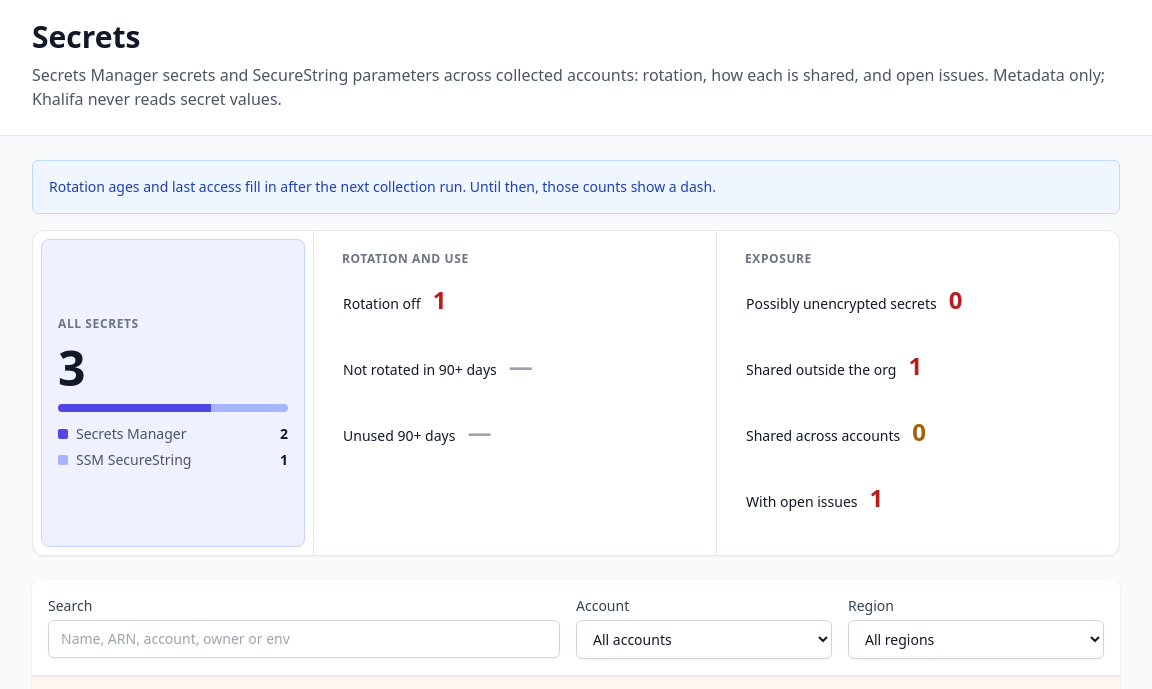
Test: SecretsPage › searches by name
The image size is (1152, 689).
Type "DB" into the search field labelled "Search" at (304, 639), box 48,620 -> 560,658
(page scrolled)
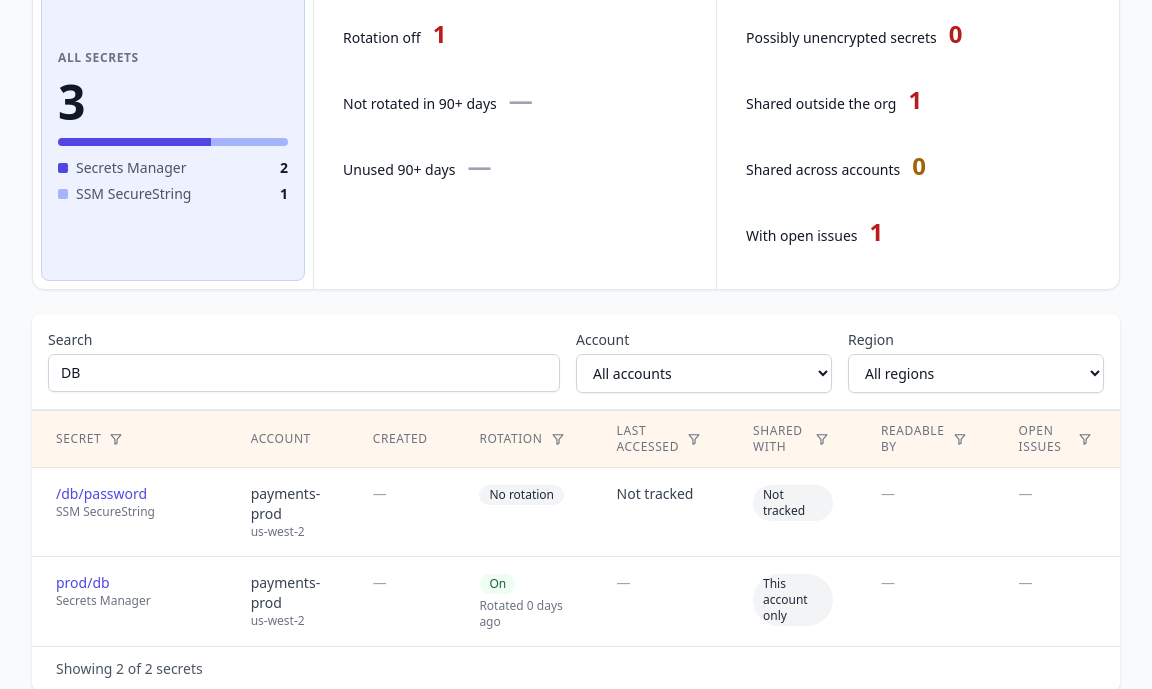
Now the text "Showing 2 of 2 secrets" is shown, box 56,659 -> 203,679
